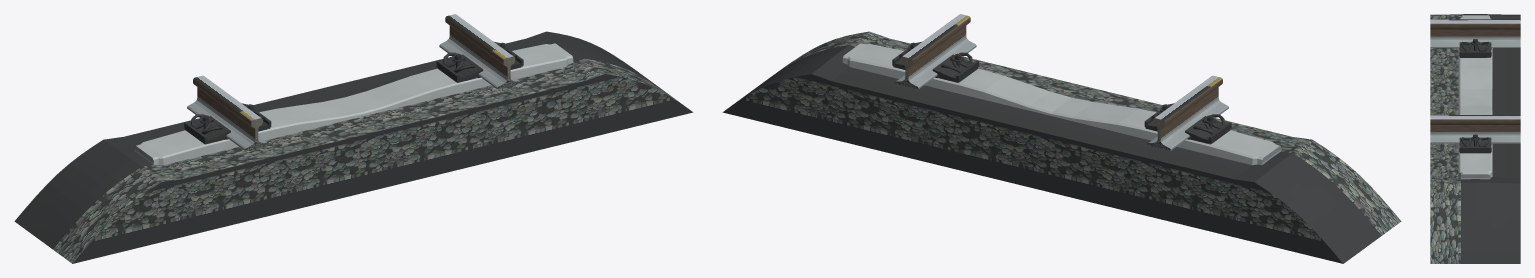
The model's file is rail_high.obj.
3 renders of one model, left to right at view 1: azimuth 30°, elevation 25°; view 2: azimuth 150°, elevation 25°; view 3: azimuth 270°, elevation 25°, orthographic. The views are drawn at different scales.
Visible parts, largest first — view 1: ballast, sleeper, rail_left, rail_right, fastener_left, fastener_right; view 2: ballast, sleeper, rail_left, rail_right, fastener_left, fastener_right; view 3: ballast, sleeper, rail_left, rail_right, fastener_right, fastener_left.
Boxes of the visible parts, left/top/right/bottom form: ballast: left=14, top=31, right=693, bottom=263; sleeper: left=134, top=43, right=573, bottom=165; rail_left: left=187, top=75, right=266, bottom=150; rail_right: left=439, top=14, right=519, bottom=88; fastener_left: left=184, top=103, right=271, bottom=144; fastener_right: left=436, top=42, right=523, bottom=82; ballast: left=722, top=31, right=1401, bottom=263; sleeper: left=842, top=43, right=1281, bottom=165; rail_left: left=1149, top=75, right=1228, bottom=150; rail_right: left=896, top=14, right=976, bottom=88; fastener_left: left=1144, top=103, right=1231, bottom=144; fastener_right: left=892, top=42, right=979, bottom=82; ballast: left=1430, top=14, right=1520, bottom=263; sleeper: left=1458, top=15, right=1492, bottom=179; rail_left: left=1430, top=19, right=1520, bottom=47; rail_right: left=1430, top=115, right=1520, bottom=143; fastener_right: left=1459, top=134, right=1491, bottom=153; fastener_left: left=1459, top=38, right=1491, bottom=57.
Bounding box in the file's own units: 3.7 × 0.5683 × 0.6.
